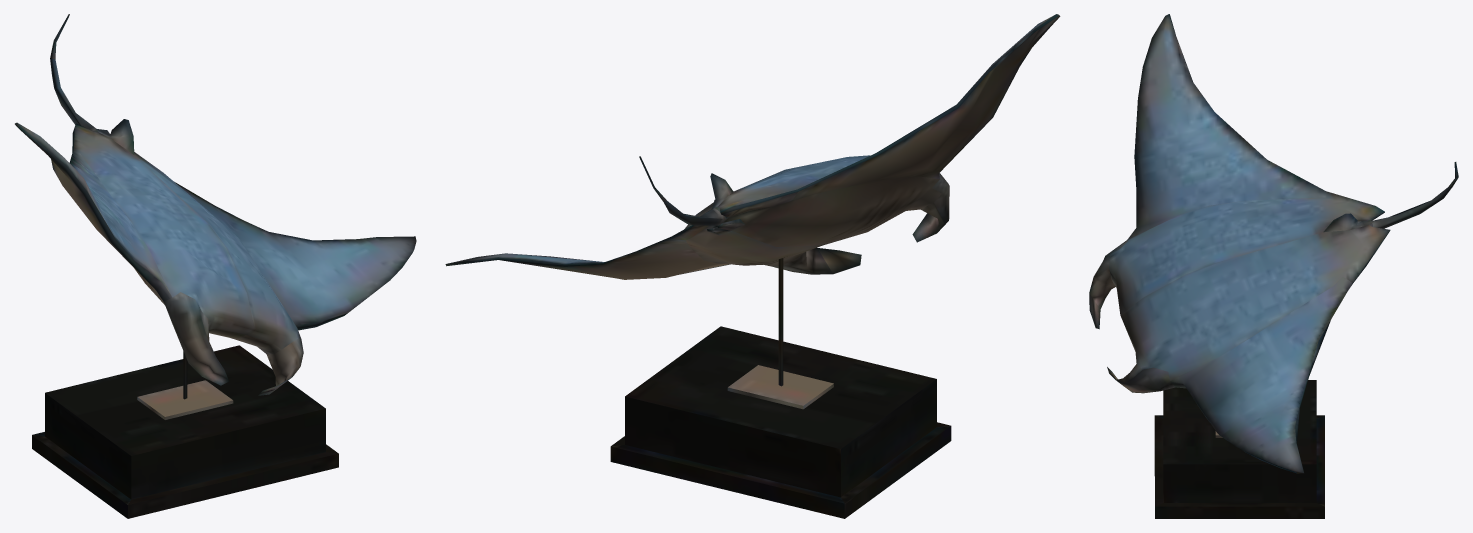
Rendered from design-bronze-ray-statue.glb.
3 renders of one model, left to right at view 1: azimuth 30°, elevation 25°; view 2: azimuth 150°, elevation 25°; view 3: azimuth 270°, elevation 25°, orthographic. The views are drawn at different scales.
Visible parts, largest first — view 1: bronze_ray_statue; view 2: bronze_ray_statue; view 3: bronze_ray_statue.
Boxes of the visible parts, x1,y1,x2,y2 form: bronze_ray_statue: [15, 14, 416, 518]; bronze_ray_statue: [445, 14, 1060, 518]; bronze_ray_statue: [1089, 14, 1458, 518].
Size of the model in its own units: 0.7075 by 0.5897 by 0.5353.
1 material, 1 textured.
